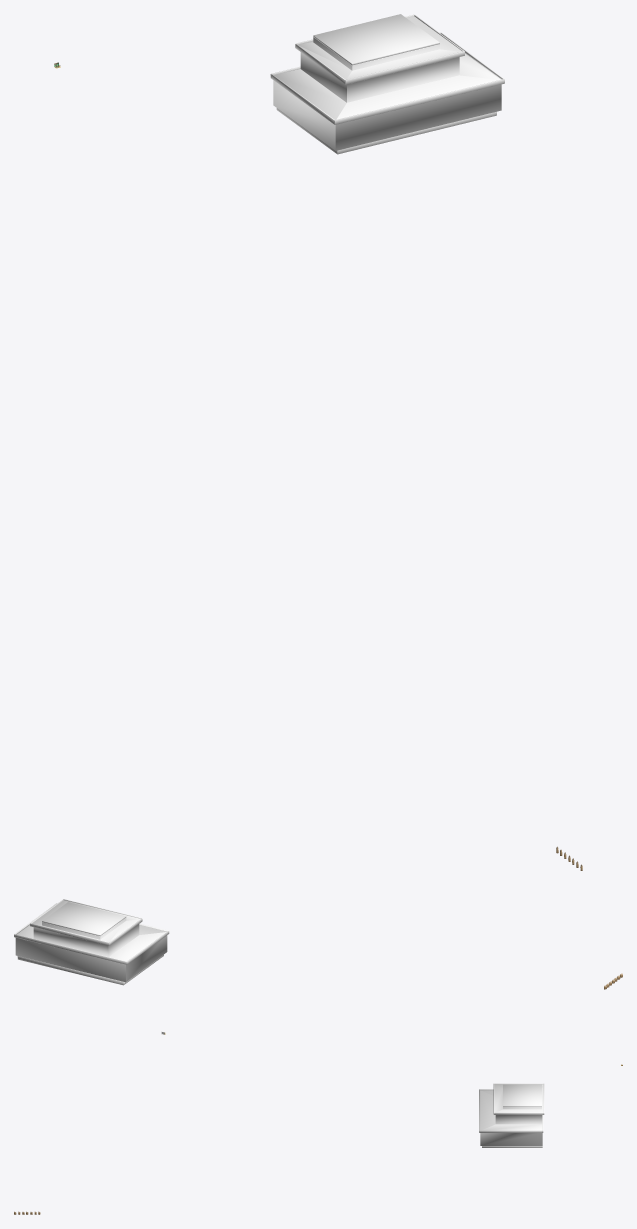
The model's file is thuysan-transformed.glb.
The picture shows the model from 3 angles, top to bottom: view 1: azimuth 30°, elevation 25°; view 2: azimuth 150°, elevation 25°; view 3: azimuth 270°, elevation 25°; orthographic projection. The views are drawn at different scales.
Visible parts, largest first — view 1: Plane.022; view 2: Plane.022; view 3: Plane.022.
Part boxes in pixels (x1=…): Plane.022: x1=58, y1=14, x2=504, y2=154; Plane.022: x1=14, y1=899, x2=169, y2=985; Plane.022: x1=479, y1=1083, x2=544, y2=1147.
Size of the model in its own units: 1096 by 1039 by 2972.
32 materials, 32 textured.
